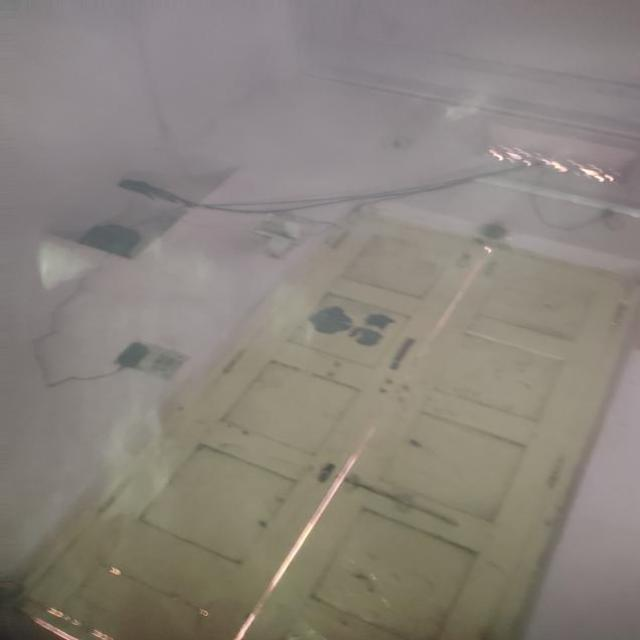fire: (69, 93, 548, 615)
